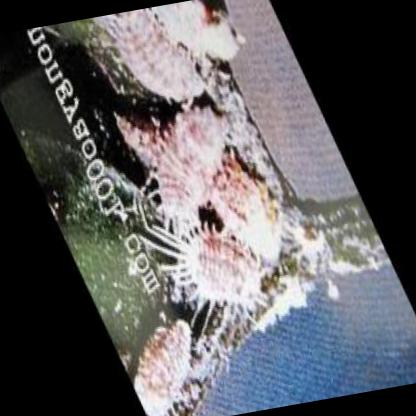mealy bug: (148, 228, 265, 305), (109, 8, 206, 98), (155, 106, 227, 225), (215, 168, 283, 253), (136, 321, 192, 416)
